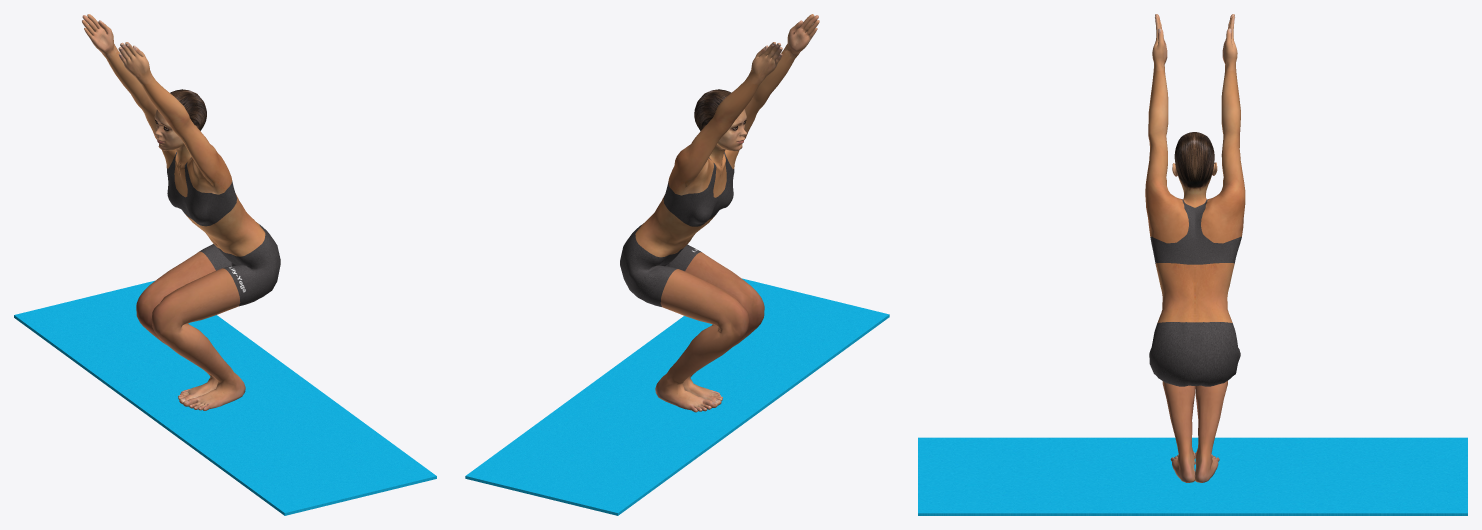
The model's file is utkatasana.glb.
3 renders of one model, left to right at view 1: azimuth 30°, elevation 25°; view 2: azimuth 150°, elevation 25°; view 3: azimuth 270°, elevation 25°, orthographic.
Parts seen in each view (by area): view 1: Mat-one-piece_jpg-material, Lily_Texture01_06_2016_jpg-material; view 2: Mat-one-piece_jpg-material, Lily_Texture01_06_2016_jpg-material; view 3: Mat-one-piece_jpg-material, Lily_Texture01_06_2016_jpg-material.
Part boxes in pixels (x1,y1,x2,y2): Mat-one-piece_jpg-material: [14, 280, 436, 515]; Lily_Texture01_06_2016_jpg-material: [82, 14, 280, 410]; Mat-one-piece_jpg-material: [465, 278, 889, 515]; Lily_Texture01_06_2016_jpg-material: [620, 14, 819, 412]; Mat-one-piece_jpg-material: [918, 437, 1467, 515]; Lily_Texture01_06_2016_jpg-material: [1145, 14, 1245, 482].
Bounding box in the file's own units: 2.63 × 5 × 6.17.
Materials: 3 (2 with a texture image).
